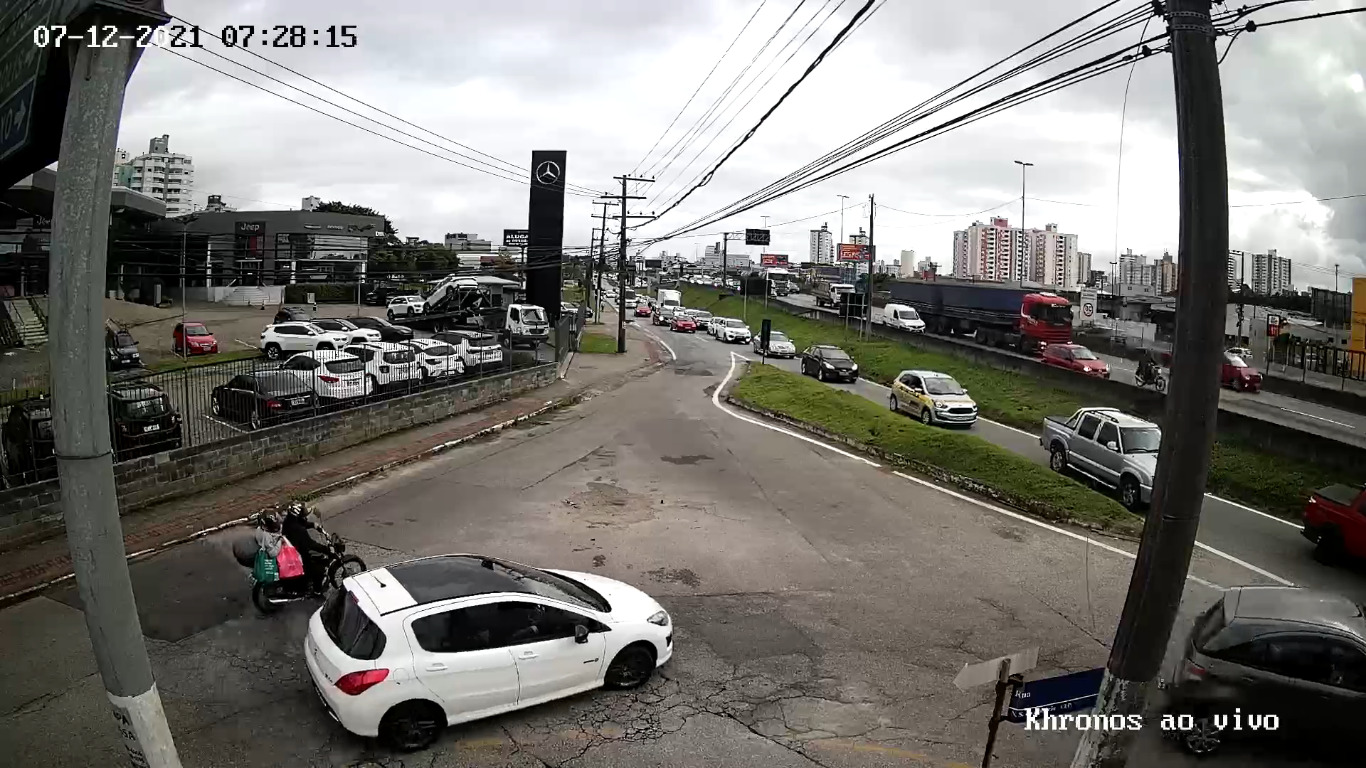car: (303, 553, 673, 753)
